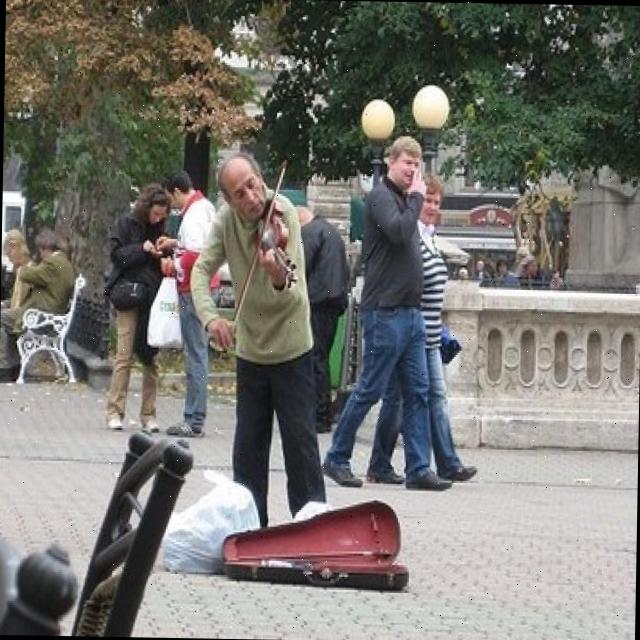violin: (246, 192, 300, 290)
